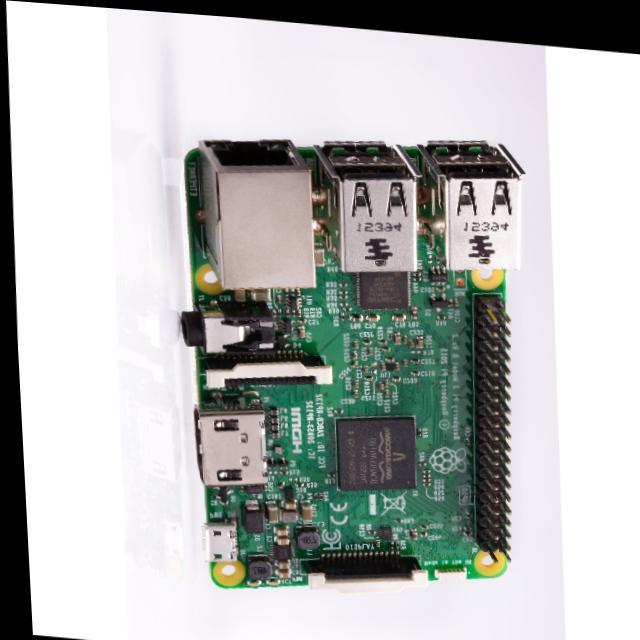Raspberry-Pi-3-B: (181, 141, 524, 589)
